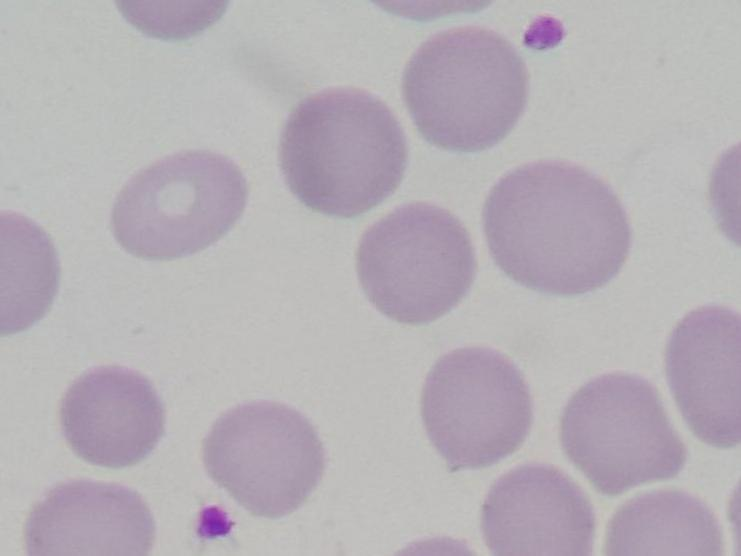Uninfected: (483, 160, 632, 296), (278, 88, 412, 216), (400, 27, 530, 156), (560, 372, 687, 498), (357, 202, 477, 323), (111, 154, 243, 262), (207, 398, 325, 518), (424, 346, 532, 467), (58, 365, 165, 469), (667, 302, 741, 448), (480, 461, 591, 555), (28, 480, 151, 556), (602, 486, 718, 556)
